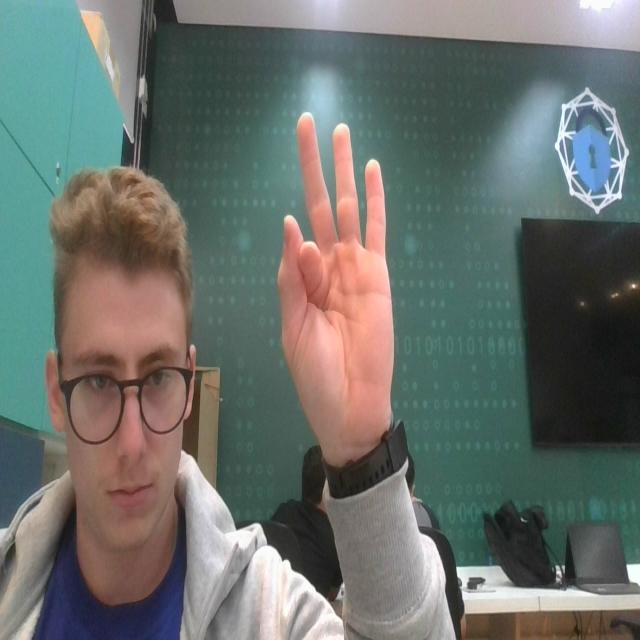F: (269, 98, 415, 460)
